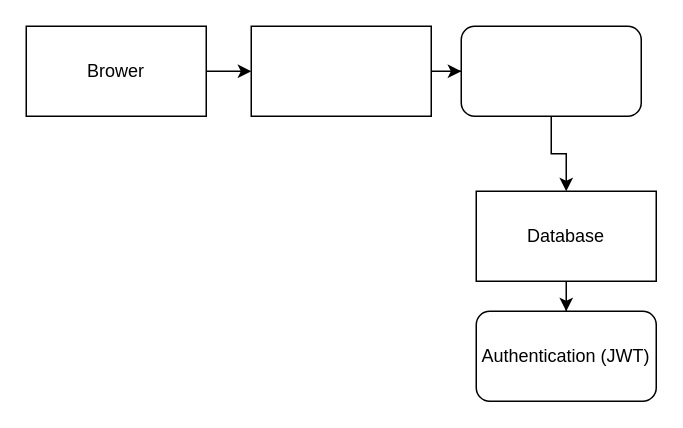
This 683x428 diagram has some shape labels left out. Here are the shapes that lost their labels. From the top down, the box of each, then its label:
(250, 25, 431, 116): Frontend
(460, 25, 641, 116): BackendAPI
